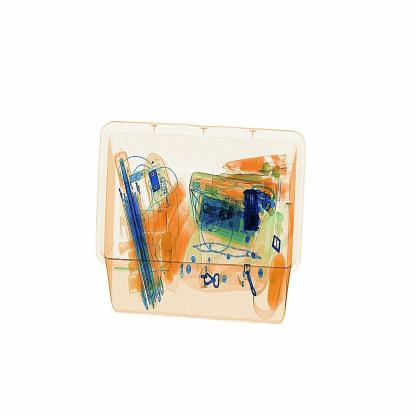scissors: (238, 183, 271, 242)
